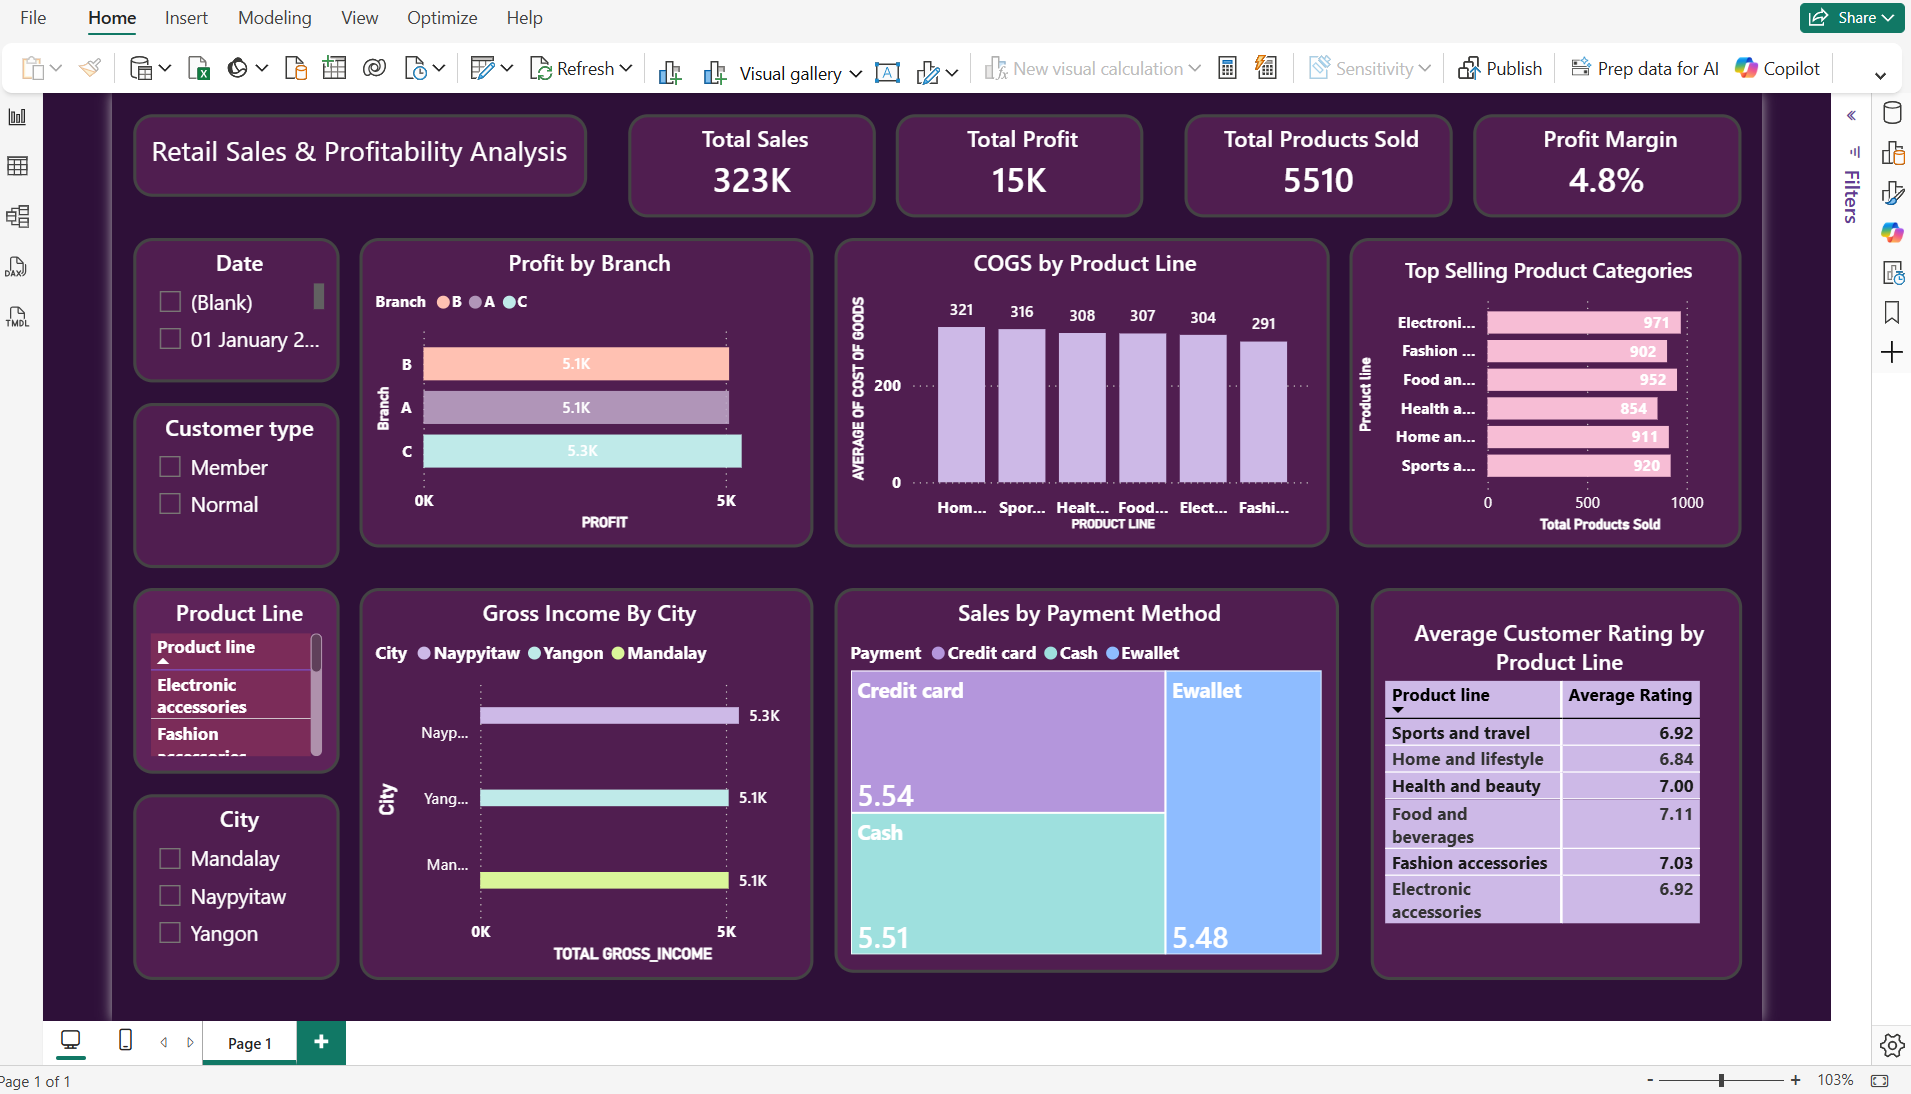

The dashboard page shown, as its layout file describes it:
{"tool":"powerbi","page":{"name":"Page 1","canvas":[1280,720],"ordinal":0},"visuals":[{"type":"tableEx","title":"Products Sold by Product Line","fields":{"Values":["supermarket_sales.Product line","supermarket_sales.TOTALPRODUCTSOLD"]},"box":[960,112,304,240],"z":0},{"type":"card","title":"Total Products Sold","fields":{"Values":["supermarket_sales.TOTALPRODUCTSOLD"]},"box":[832,16,208,80],"z":1000},{"type":"tableEx","title":"Average Customer Rating by Product Line","fields":{"Values":["supermarket_sales.Product line","supermarket_sales.Average Rating"]},"box":[976,384,288,304],"z":2000},{"type":"treemap","title":"Sales by Payment Method","fields":{"Values":["supermarket_sales.AVERAGE QUANTITY"],"Group":["supermarket_sales.Payment"]},"box":[560,384,391,298],"z":3000},{"type":"clusteredBarChart","title":"Gross Income By City","fields":{"Y":["supermarket_sales.TOTAL GROSS_INCOME"],"Category":["supermarket_sales.City"],"Series":["supermarket_sales.City"]},"box":[192,384,352,304],"z":4000},{"type":"barChart","title":"Profit by Branch ","fields":{"Category":["supermarket_sales.Branch"],"Y":["supermarket_sales.PROFIT"],"Series":["supermarket_sales.Branch"]},"box":[192,112,352,240],"z":5000},{"type":"clusteredColumnChart","title":"COGS by Product Line","fields":{"Category":["supermarket_sales.Product line"],"Y":["supermarket_sales.Average COGS"]},"box":[560,112,384,240],"z":6000},{"type":"shape","box":[16,16,368,80],"z":7000},{"type":"card","title":"Total Sales","fields":{"Values":["supermarket_sales.Total Sales"]},"box":[400,16,192,80],"z":8000},{"type":"card","title":"Total Profit","fields":{"Values":["supermarket_sales.Total Profit"]},"box":[608,16,192,80],"z":9000},{"type":"card","title":"Profit Margin","fields":{"Values":["supermarket_sales.Profit Margin"]},"box":[1056,16,208,80],"z":10000},{"type":"tableEx","title":"Product Line","fields":{"Values":["supermarket_sales.Product line"]},"box":[16,384,160,144],"z":11000},{"type":"slicer","title":"Date","fields":{"Values":["supermarket_sales.Date"]},"box":[16,112,160,112],"z":12000},{"type":"slicer","title":"Customer type","fields":{"Values":["supermarket_sales.Customer type"]},"box":[16,240,160,128],"z":13000},{"type":"slicer","title":"City","fields":{"Values":["supermarket_sales.City"]},"box":[16,544,160,144],"z":14000}]}

Visuals, with their boxes on the page's 1280x720 design canvas (x1, y1, x2, y2). These are canvas units, not pixel positions in the 1911x1094 screenshot, which may show the page scaled, cropped or inside an application window:
"Products Sold by Product Line" tableEx: pyautogui.locateOnScreen(960, 112, 1264, 352)
"Total Products Sold" card: pyautogui.locateOnScreen(832, 16, 1040, 96)
"Average Customer Rating by Product Line" tableEx: pyautogui.locateOnScreen(976, 384, 1264, 688)
"Sales by Payment Method" treemap: pyautogui.locateOnScreen(560, 384, 951, 682)
"Gross Income By City" clusteredBarChart: pyautogui.locateOnScreen(192, 384, 544, 688)
"Profit by Branch " barChart: pyautogui.locateOnScreen(192, 112, 544, 352)
"COGS by Product Line" clusteredColumnChart: pyautogui.locateOnScreen(560, 112, 944, 352)
shape: pyautogui.locateOnScreen(16, 16, 384, 96)
"Total Sales" card: pyautogui.locateOnScreen(400, 16, 592, 96)
"Total Profit" card: pyautogui.locateOnScreen(608, 16, 800, 96)
"Profit Margin" card: pyautogui.locateOnScreen(1056, 16, 1264, 96)
"Product Line" tableEx: pyautogui.locateOnScreen(16, 384, 176, 528)
"Date" slicer: pyautogui.locateOnScreen(16, 112, 176, 224)
"Customer type" slicer: pyautogui.locateOnScreen(16, 240, 176, 368)
"City" slicer: pyautogui.locateOnScreen(16, 544, 176, 688)
